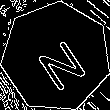N_NW: (25, 24, 87, 89)
